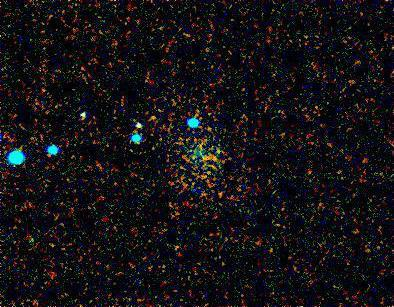star: (138, 101, 168, 131)
